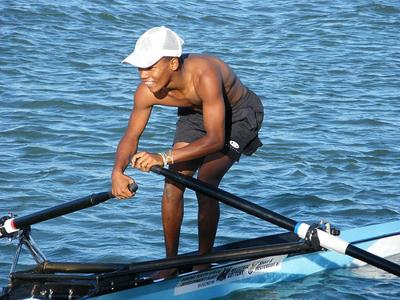person: (110, 27, 266, 279)
